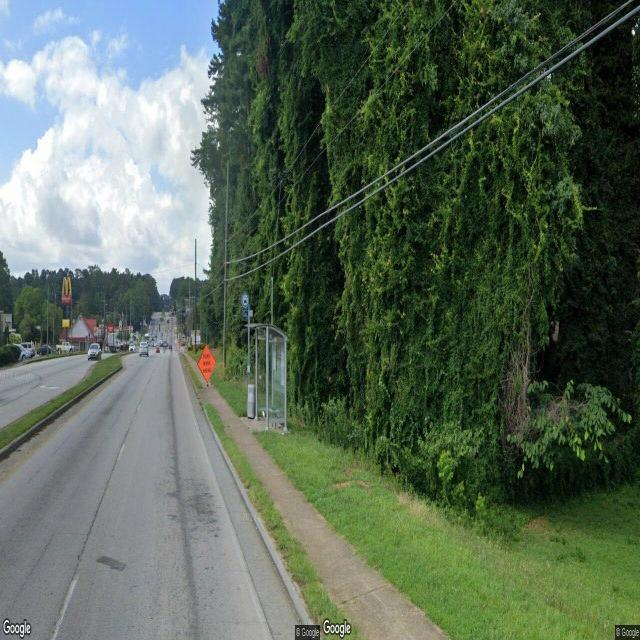seating: (269, 404, 281, 430)
shelter: (250, 324, 288, 430)
trash_can: (247, 383, 256, 419)
